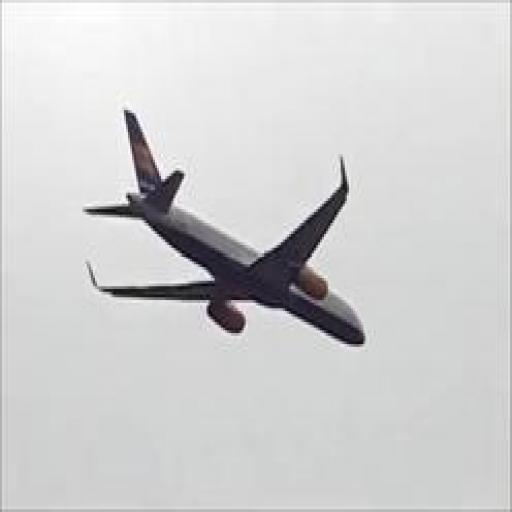aircraft: (82, 108, 368, 350)
